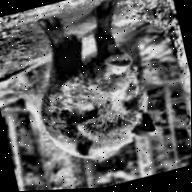boar: (19, 0, 170, 188)
